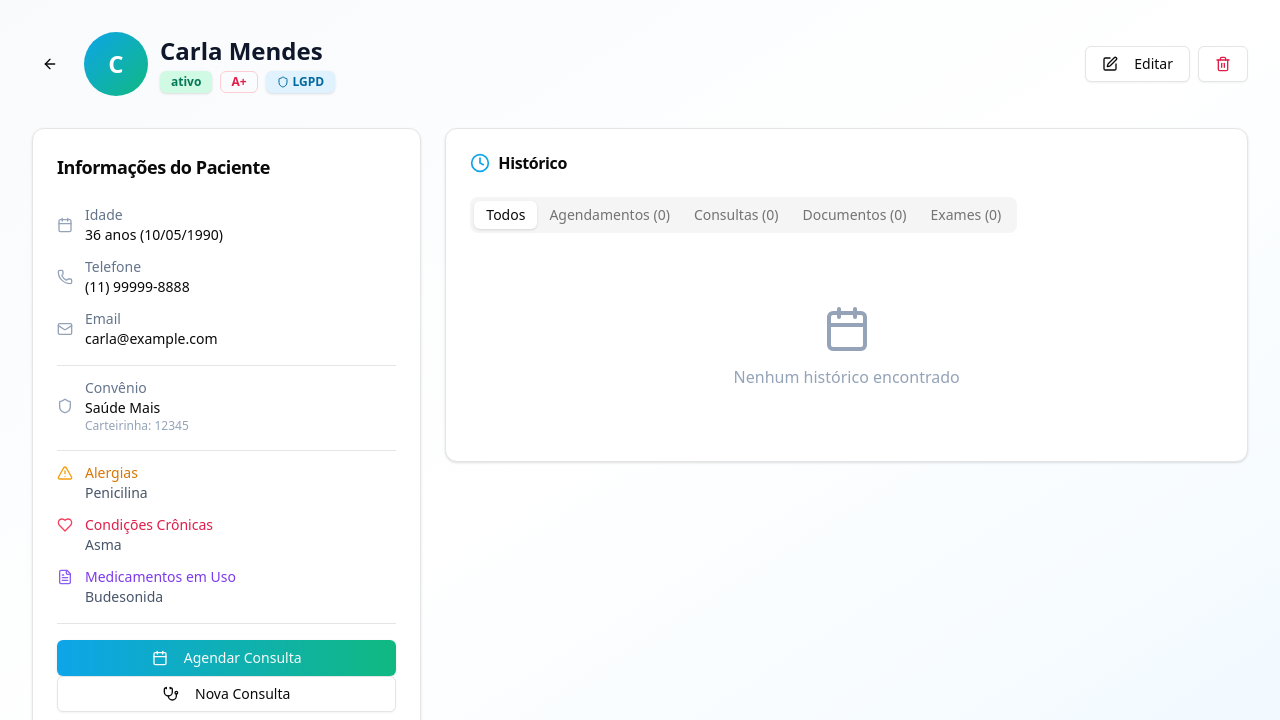
Test case: PatientDetail › closes the dialog, keeps the patient, and never deletes when the user cancels
The width and height of the screenshot is (1280, 720).
Expected: the heading "Carla Mendes" is shown, [160, 35, 335, 67]
Click the 3rd button at (1223, 64), box [1198, 46, 1248, 82]
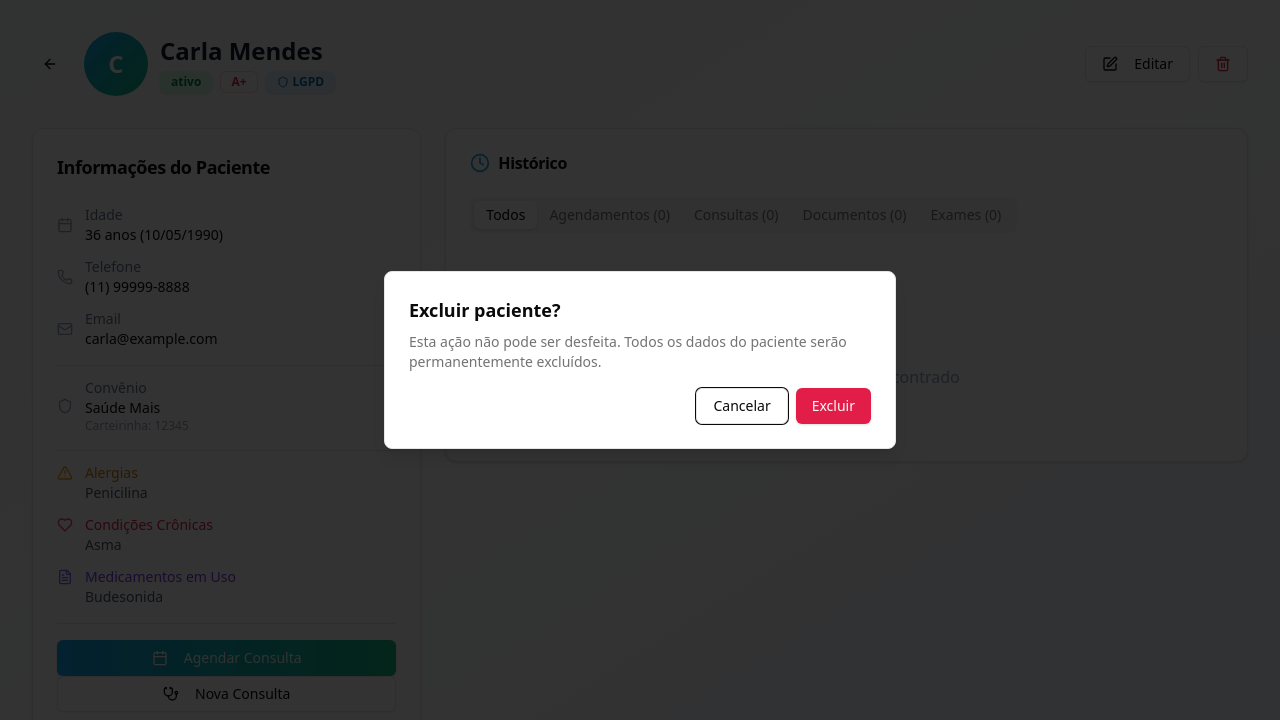
Expected: the dialog is shown, [384, 271, 896, 449]
Click the button "Cancelar" at (742, 406), box [696, 388, 788, 424]
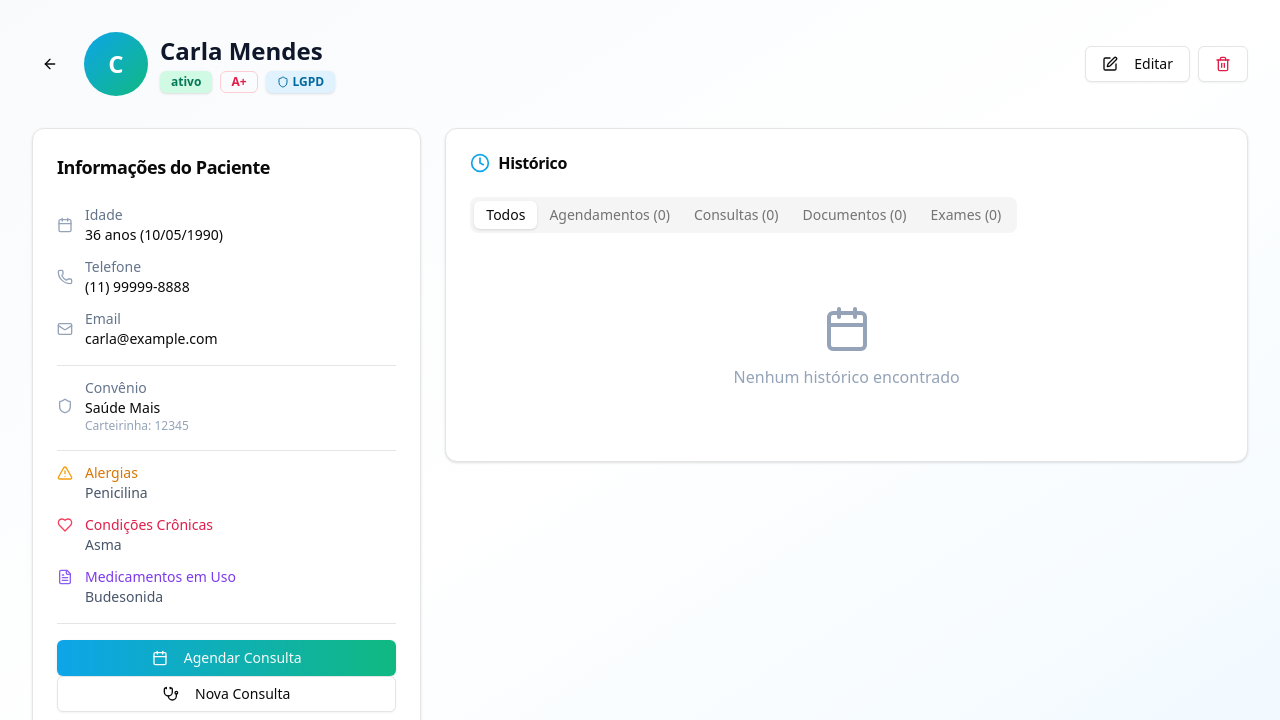
Expected: the heading "Carla Mendes" is shown, [160, 35, 335, 67]
Expected: the dialog is gone
